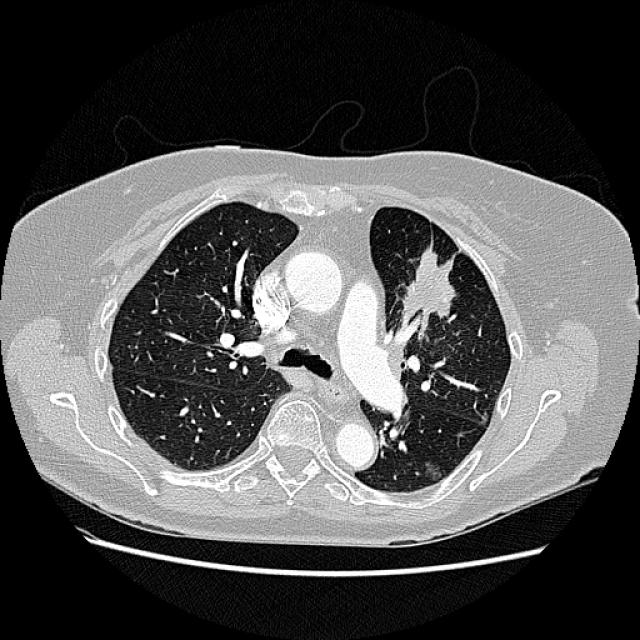nodule: (415, 454, 447, 486)
